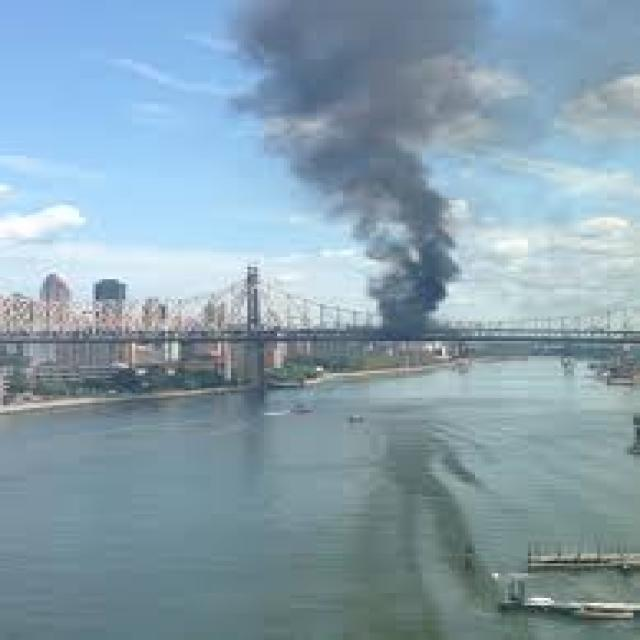Smoke: (297, 32, 482, 321)
